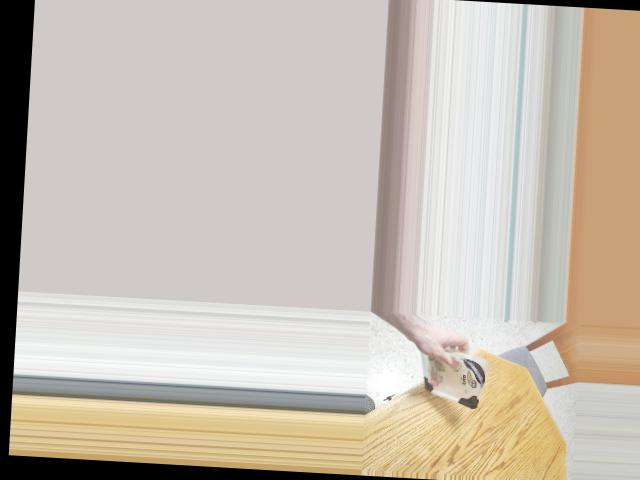cheese: (415, 349, 492, 403)
